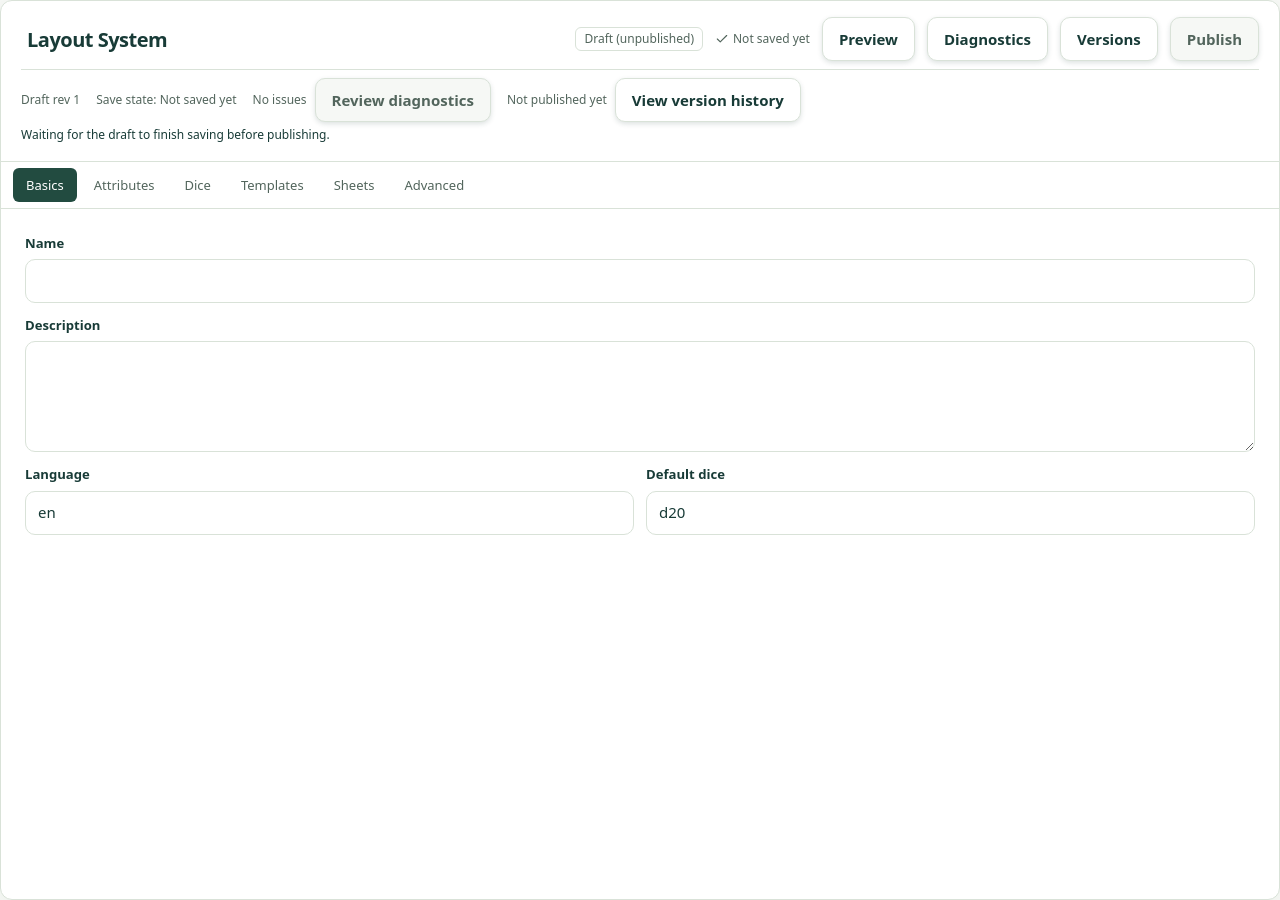
it: creator pages own their editor/preview columns › applies the split class only while the preview pane is visible
Click the button with test id "document-editor-preview-toggle".
click(868, 39)  # box [822, 17, 915, 61]
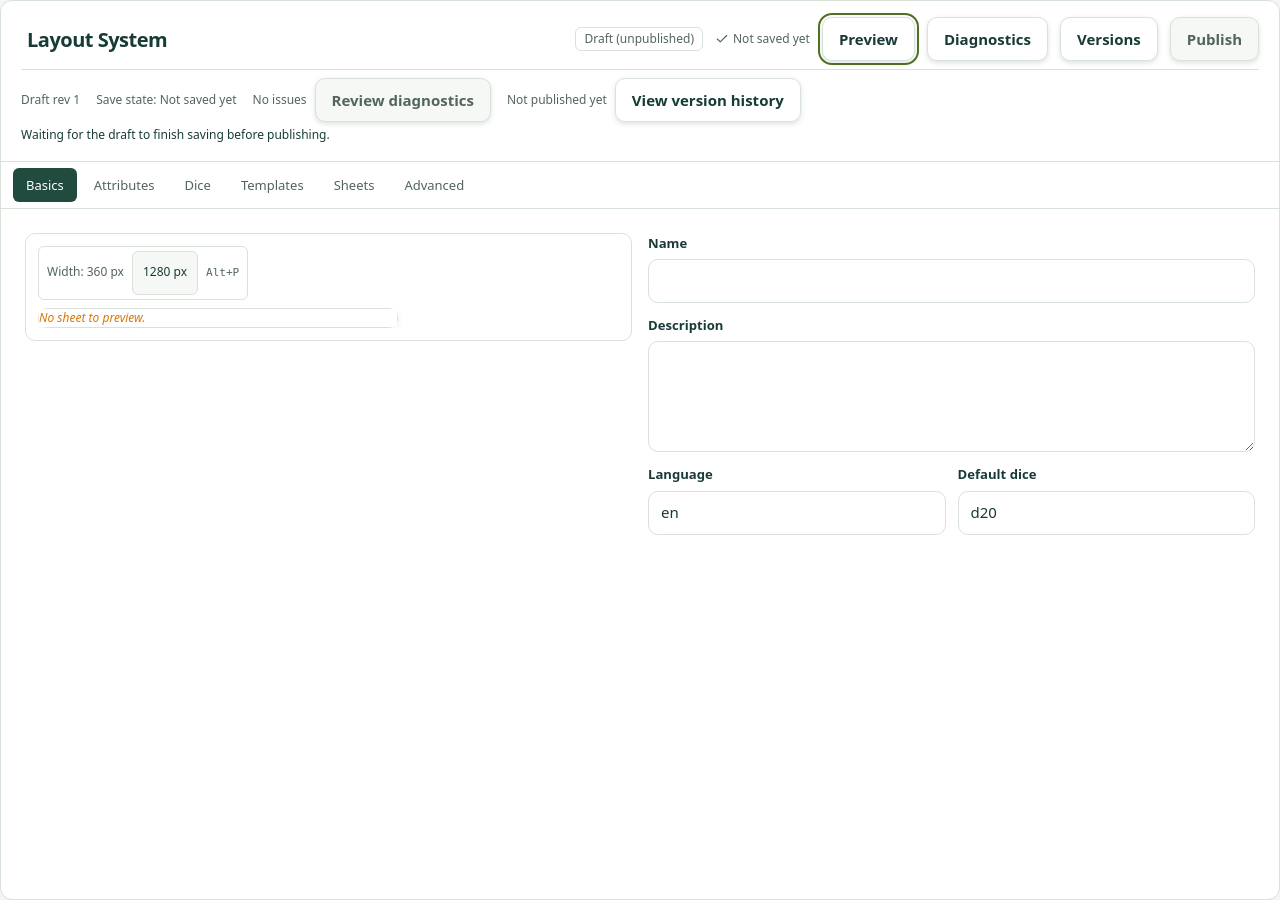
Now the element with test id "document-editor-preview" is shown, box [25, 233, 632, 341]
Click the button with test id "document-editor-preview-toggle".
click(868, 39)  # box [822, 17, 915, 61]
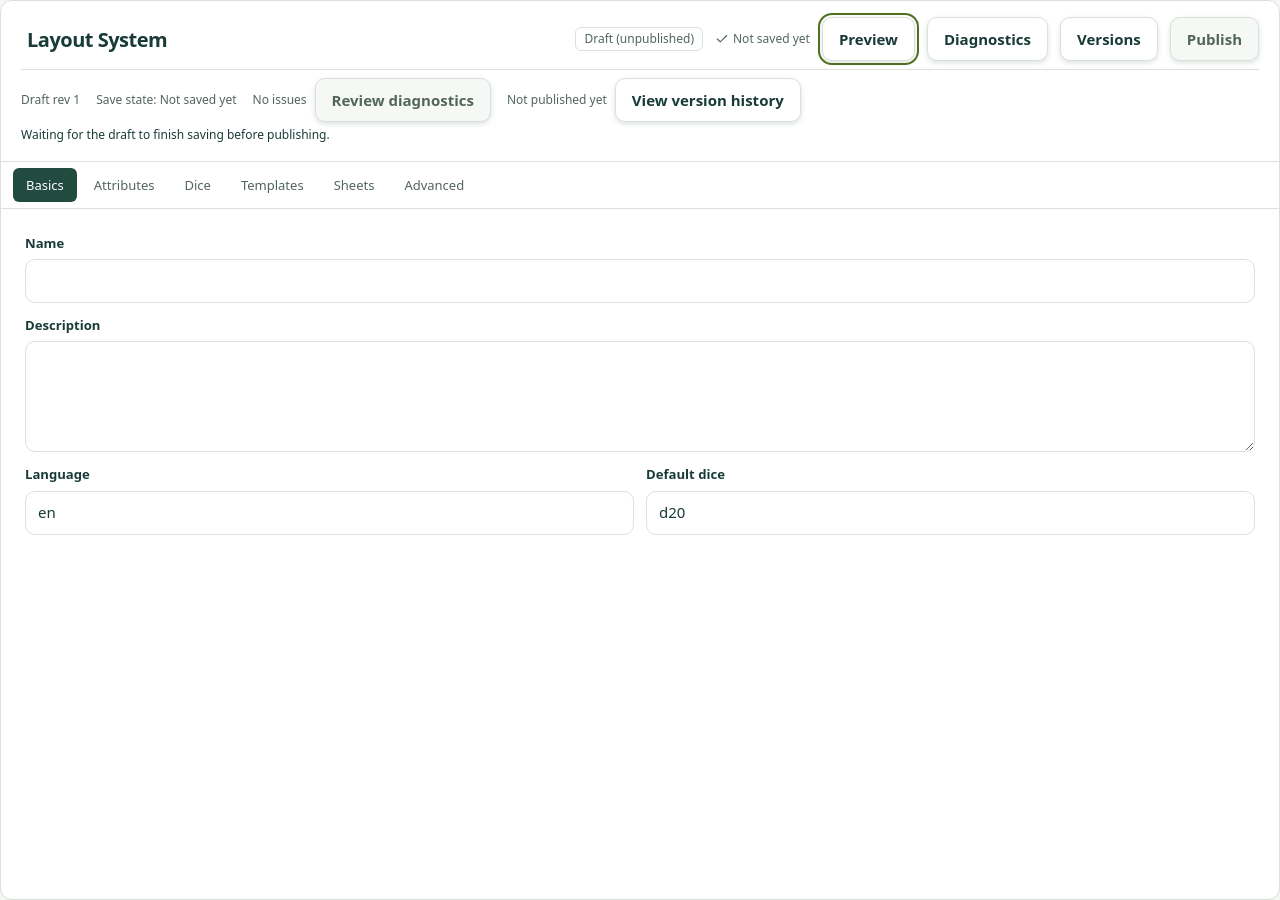
Now the element with test id "document-editor-preview" is gone
